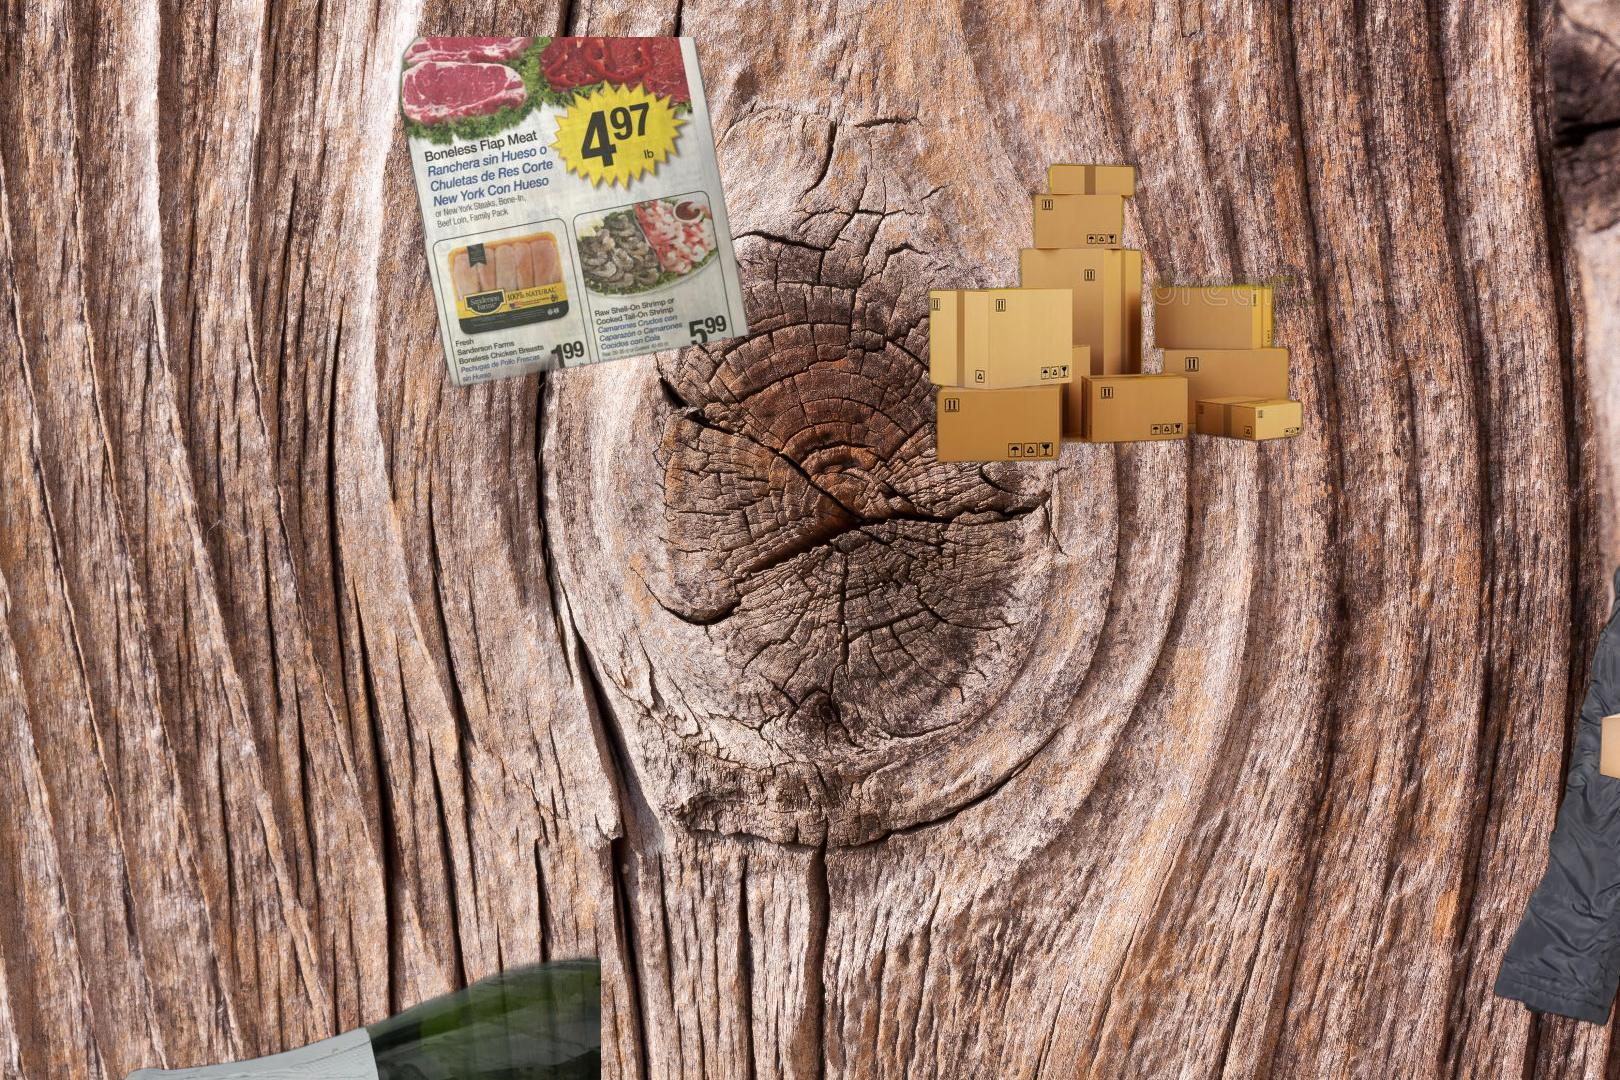clothes: (1492, 479, 1620, 1040)
glass: (92, 943, 601, 1080)
paper: (352, 37, 755, 405)
trashbox-cardboard: (921, 159, 1422, 466), (1593, 626, 1620, 855)
